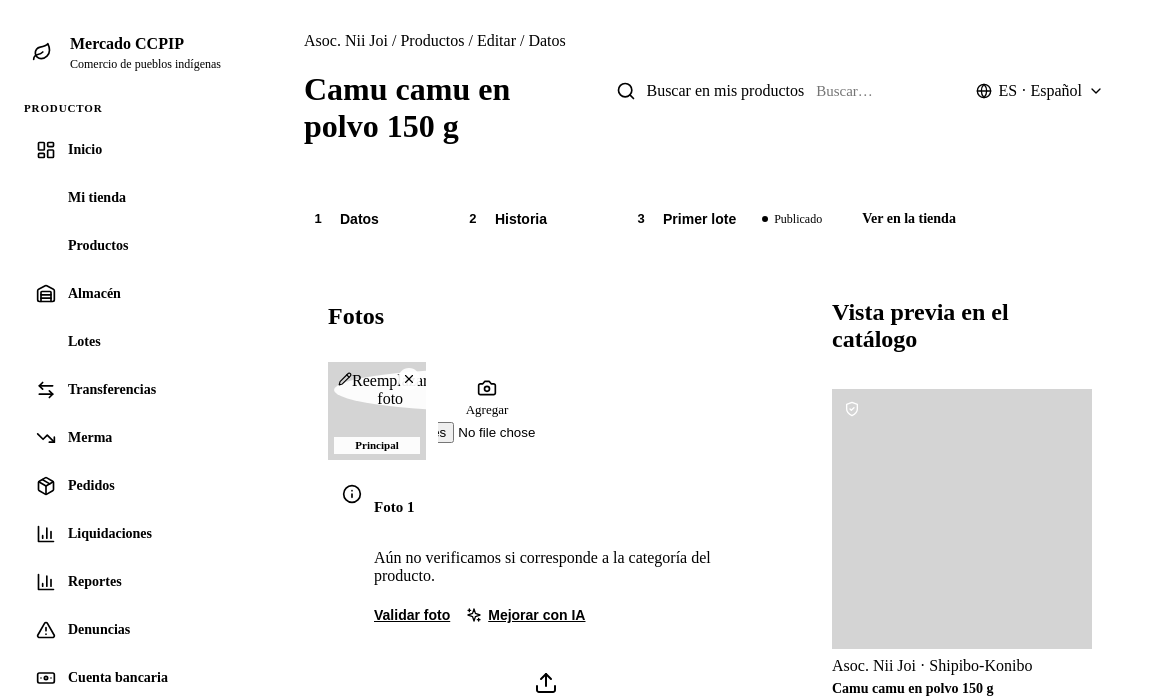
PW-04 Validacion de fotos con IA (CCPIP-144, 168, 364) › sin IA disponible lo dice, no bloquea y conserva la foto original
Expected: the text "Aún no verificamos si corresponde a la categoría del producto." is shown, [374,549,750,585]
Click the button "Validar foto" at (412, 615), box [374,607,450,623]
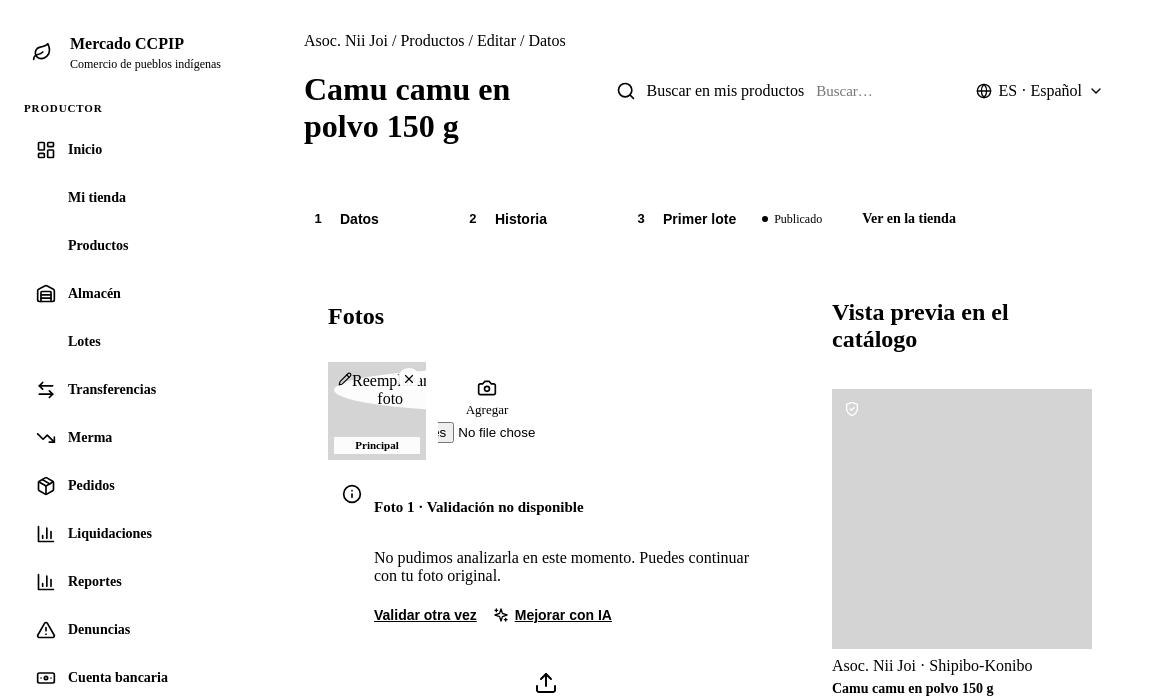
Expected: the text "Foto 1 · Validación no disponible" is shown, [374,499,584,515]
Expected: the text "No pudimos analizarla en este momento. Puedes continuar con tu foto original." is shown, [374,549,750,585]
Expected: the button "Validar otra vez" is shown, [374,607,477,623]
Click the button "Mejorar con IA" at (552, 615), box [493,607,612,623]
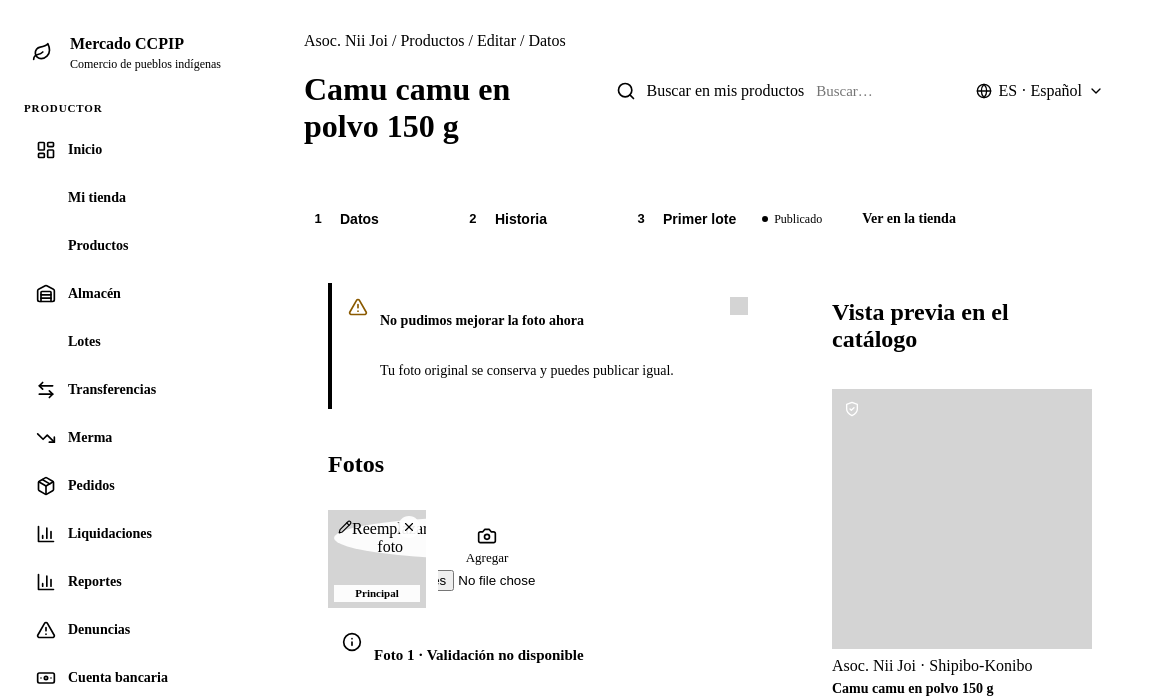
Expected: the text "No pudimos mejorar la foto ahora" is shown, [380,313,584,328]
Expected: the text "Tu foto original se conserva y puedes publicar igual." is shown, [380,361,718,381]
